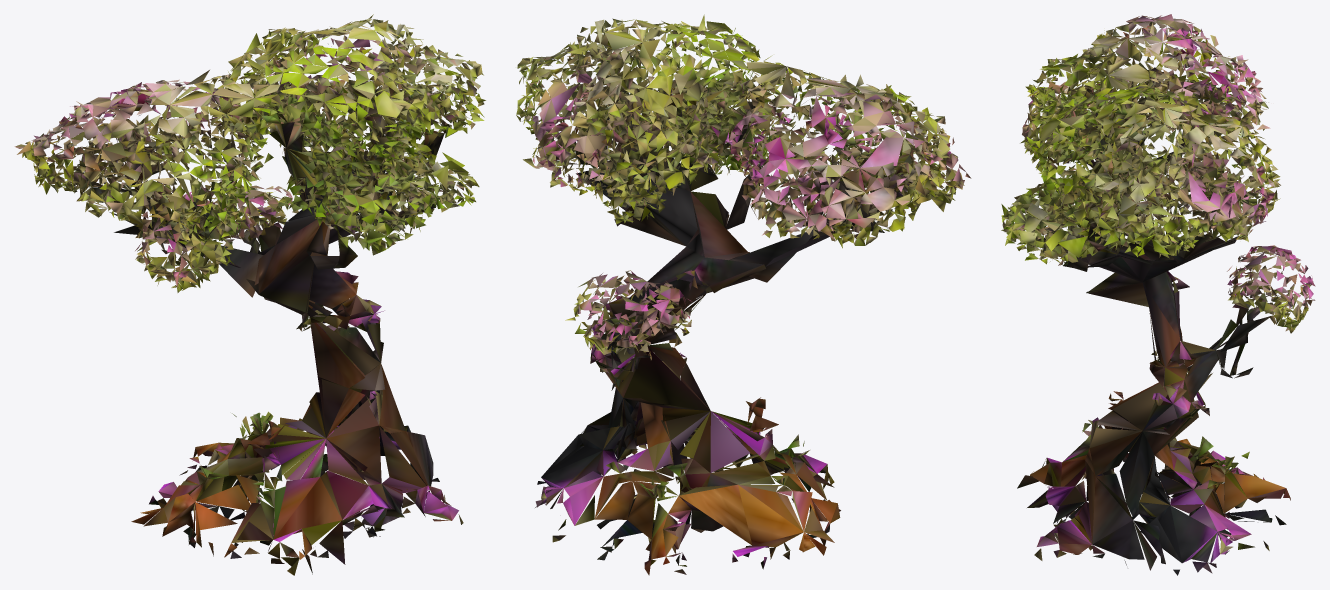
Rendered from treeA.glb.
3 renders of one model, left to right at view 1: azimuth 30°, elevation 25°; view 2: azimuth 150°, elevation 25°; view 3: azimuth 270°, elevation 25°, orthographic. The views are drawn at different scales.
Parts seen in each view (by area): view 1: Mesh_0; view 2: Mesh_0; view 3: Mesh_0.
Boxes of the visible parts, x1,y1,x2,y2 form: Mesh_0: (14, 14, 485, 575); Mesh_0: (516, 14, 971, 575); Mesh_0: (1001, 14, 1315, 575).
Size of the model in its own units: 1.9 by 1.99 by 1.29.
Materials: 1 (1 with a texture image).
